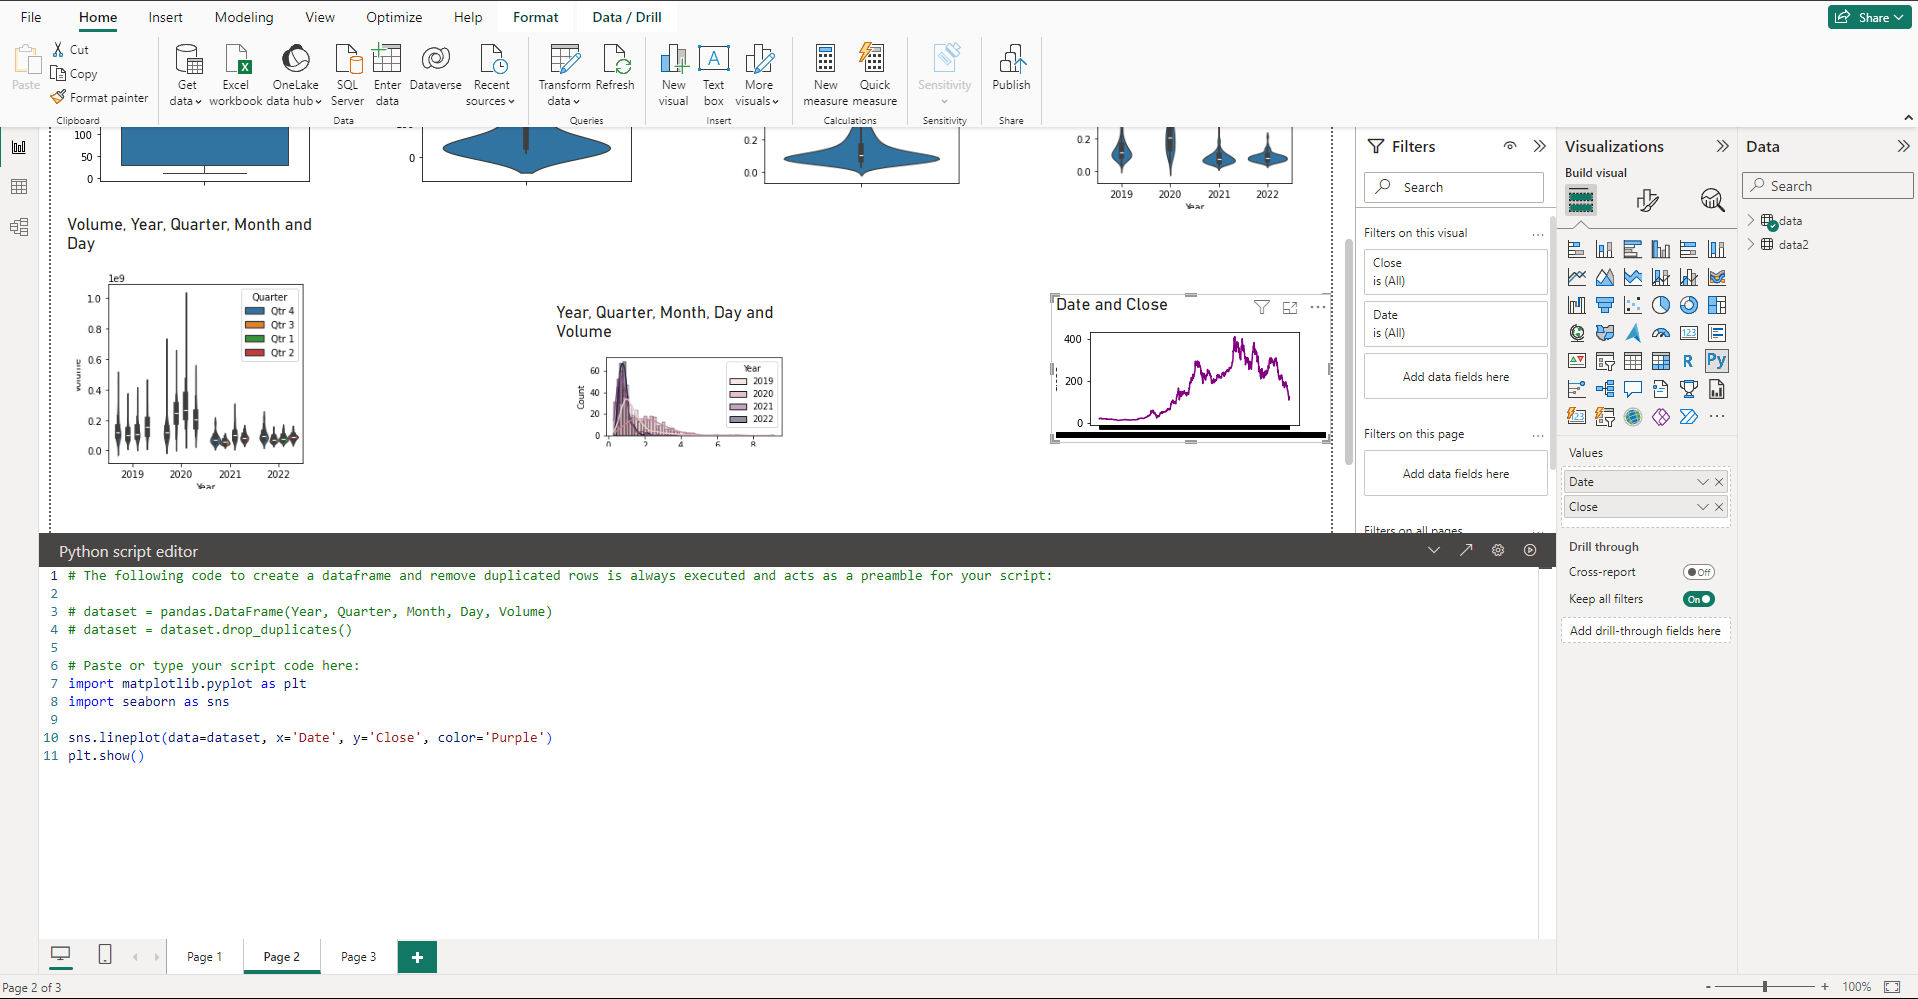

What the dashboard file says about the page in this screenshot:
{"tool":"powerbi","page":{"name":"Page 2","canvas":[1280,720],"ordinal":1},"visuals":[{"type":"pythonVisual","fields":{"Values":["data.Close"]},"box":[10,0,280,280],"z":0},{"type":"pythonVisual","fields":{"Values":["data.Close"]},"box":[332,0,280,280],"z":1000},{"type":"pythonVisual","fields":{"Values":["data.Volume","data.Date.Variation.Date Hierarchy.Year","data.Date.Variation.Date Hierarchy.Quarter","data.Date.Variation.Date Hierarchy.Month","data.Date.Variation.Date Hierarchy.Day"]},"box":[667,0,280,280],"z":2000},{"type":"pythonVisual","fields":{"Values":["data.Volume","data.Date.Variation.Date Hierarchy.Year","data.Date.Variation.Date Hierarchy.Quarter","data.Date.Variation.Date Hierarchy.Month","data.Date.Variation.Date Hierarchy.Day"]},"box":[1000,0,280,280],"z":3000},{"type":"pythonVisual","fields":{"Values":["data.Volume","data.Date.Variation.Date Hierarchy.Year","data.Date.Variation.Date Hierarchy.Quarter","data.Date.Variation.Date Hierarchy.Month","data.Date.Variation.Date Hierarchy.Day"]},"box":[10.5,280,280,280],"z":4000},{"type":"pythonVisual","fields":{"Values":["data.Date.Variation.Date Hierarchy.Year","data.Date.Variation.Date Hierarchy.Quarter","data.Date.Variation.Date Hierarchy.Month","data.Date.Variation.Date Hierarchy.Day","data.Volume"]},"box":[500,368,280,149],"z":5000},{"type":"pythonVisual","fields":{"Values":["data.Date","data.Close"]},"box":[1000,360,280,149],"z":6000}]}

Visuals, with their boxes on the page's 1280x720 design canvas (x1, y1, x2, y2). These are canvas units, not pixel positions in the 1918x999 screenshot, which may show the page scaled, cropped or inside an application window:
pythonVisual - data.Close: 10:0:290:280
pythonVisual - data.Close: 332:0:612:280
pythonVisual - data.Volume x data.Date.Variation.Date Hierarchy.Year: 667:0:947:280
pythonVisual - data.Volume x data.Date.Variation.Date Hierarchy.Year: 1000:0:1280:280
pythonVisual - data.Volume x data.Date.Variation.Date Hierarchy.Year: 10:280:290:560
pythonVisual - data.Date.Variation.Date Hierarchy.Year x data.Date.Variation.Date Hierarchy.Quarter: 500:368:780:517
pythonVisual - data.Date x data.Close: 1000:360:1280:509
